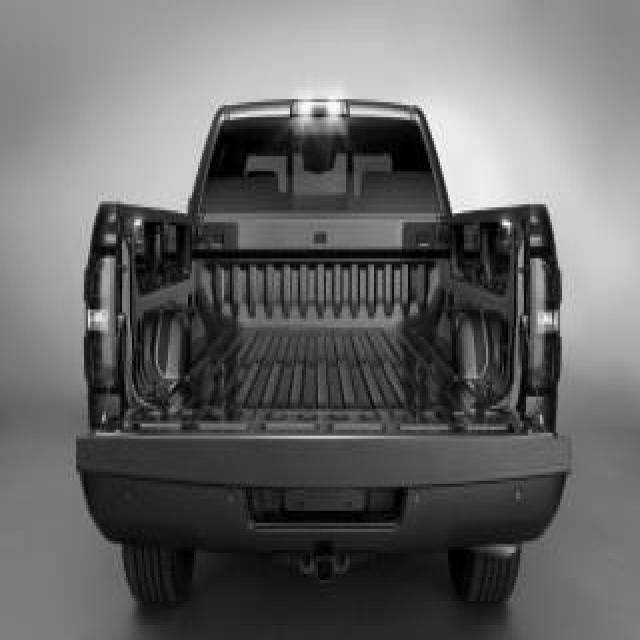Car: (76, 97, 573, 604)
